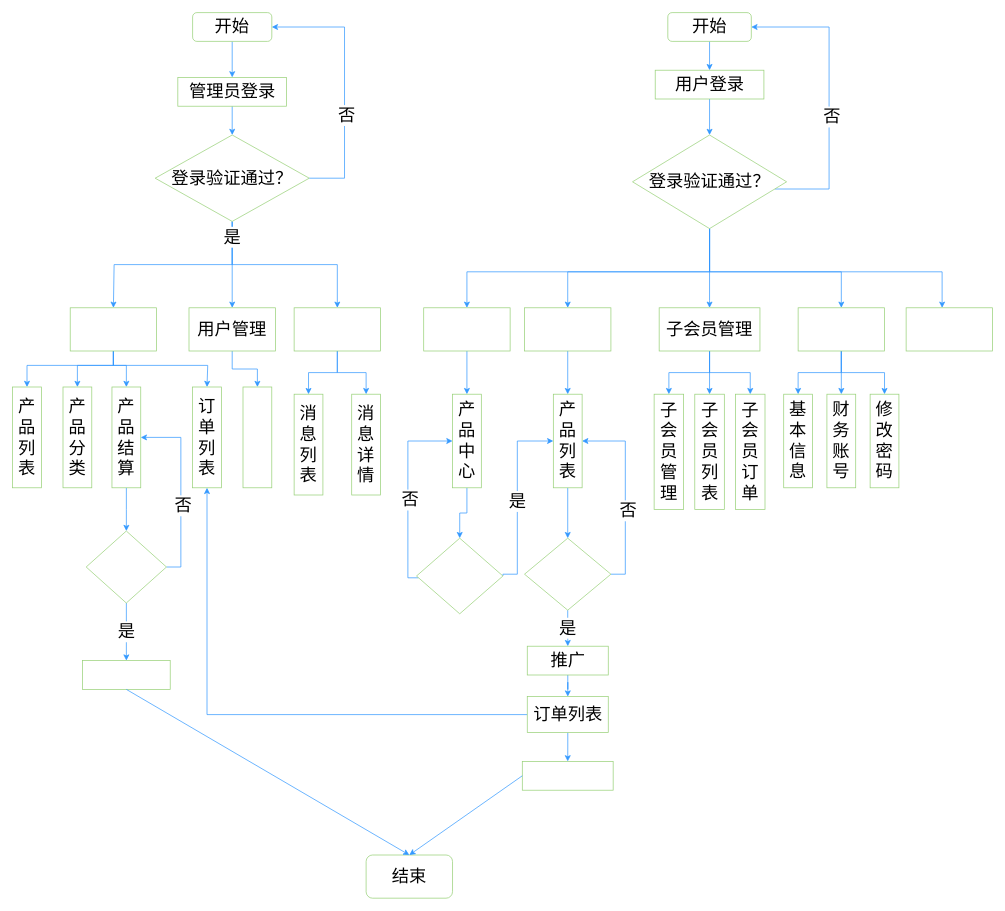
This 1005x911 diagram has some shape labels left out. The centre of each missing label's shape, as x and y in pixels:
"产品介绍" goes at [466,329].
"产品管理" goes at [113,329].
"信息通知" goes at [949,329].
"我的产品" goes at [567,329].
"我的信息" goes at [841,329].
"未结算订单" goes at [125,566].
"消息管理" goes at [337,329].
"用户列表" goes at [257,437].
"结算列表" goes at [567,775].
"获取产品" goes at [459,575].
"获取链接" goes at [567,573].
"进行结算" goes at [126,674].
